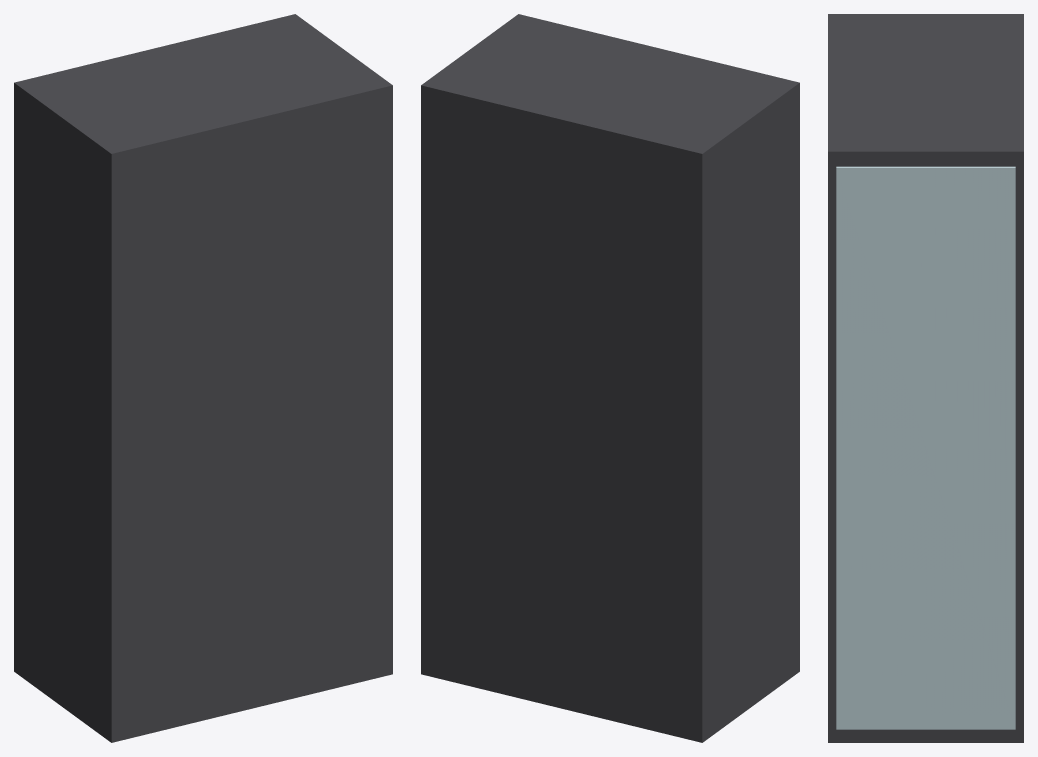
The model's file is SM_Prop_ServerRack.glb.
3 views of the same model, side by side, from view 1: azimuth 30°, elevation 25°; view 2: azimuth 150°, elevation 25°; view 3: azimuth 270°, elevation 25° (orthographic).
Parts seen in each view (by area): view 1: SM_Prop_ServerRack; view 2: SM_Prop_ServerRack; view 3: SM_Prop_ServerRack.
Boxes of the visible parts, x1,y1,x2,y2 form: SM_Prop_ServerRack: [14, 14, 392, 742]; SM_Prop_ServerRack: [421, 14, 799, 742]; SM_Prop_ServerRack: [828, 14, 1023, 742].
Bounding box in the file's own units: 1.01 × 2 × 0.6.
